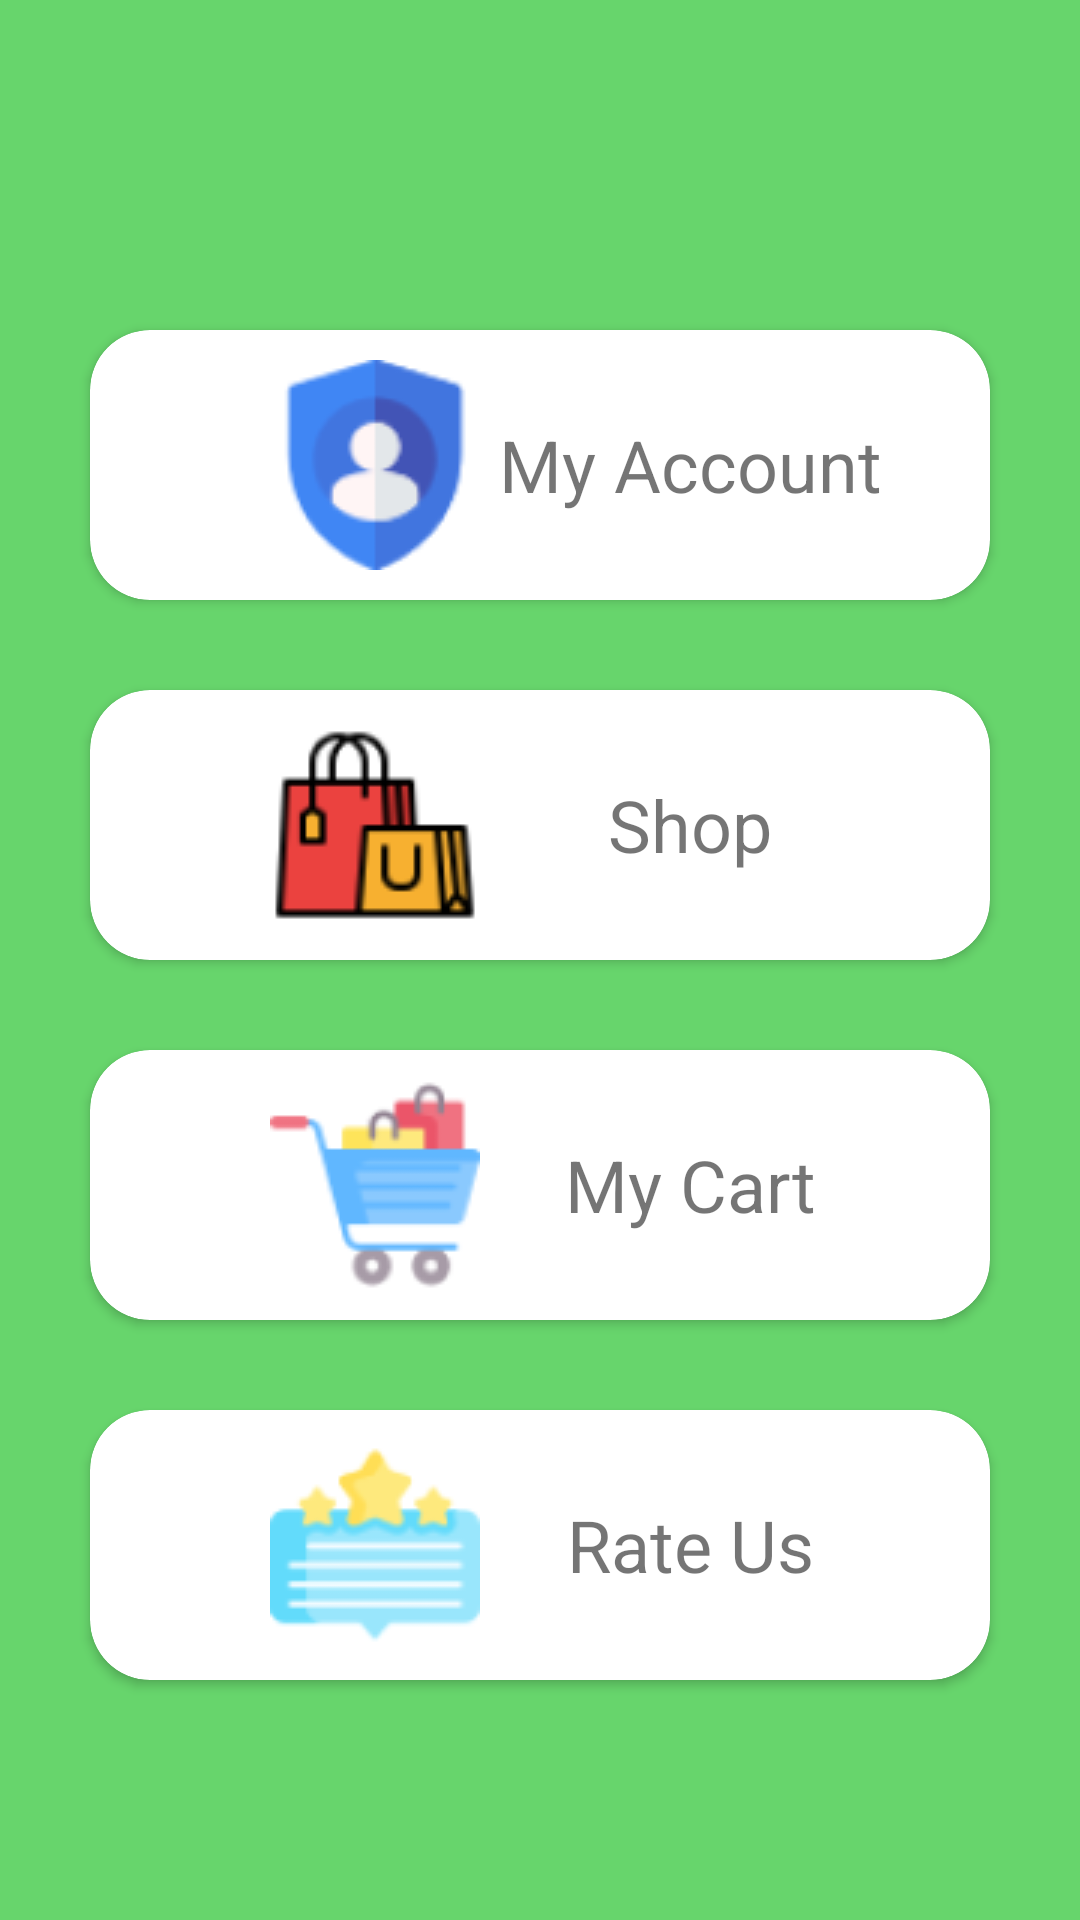

Point at icon controls on the screen. Image size 1080 x 1920, points as [x,y].
shopping cart: [375,1184]
